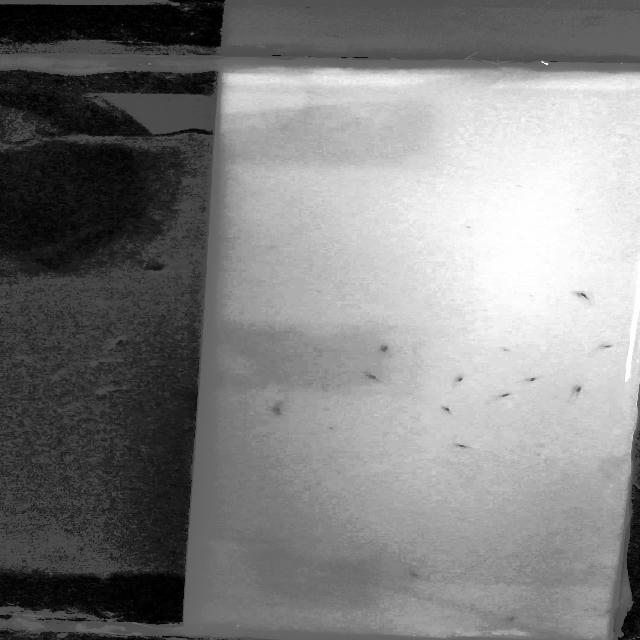shrimp: (559, 285, 602, 305), (246, 403, 293, 419), (448, 437, 487, 455), (564, 378, 590, 403), (498, 611, 532, 629), (494, 386, 522, 403), (441, 373, 475, 386), (437, 401, 462, 418), (358, 368, 380, 387), (399, 570, 436, 580), (374, 344, 402, 356), (524, 373, 549, 386)
